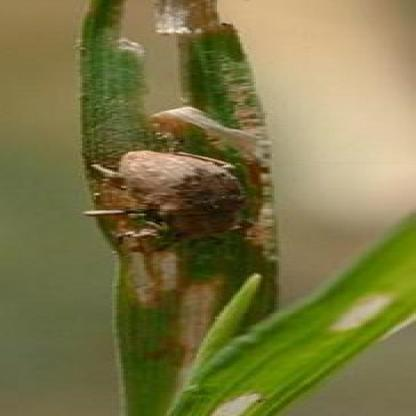rice-bug: (84, 146, 278, 244)
